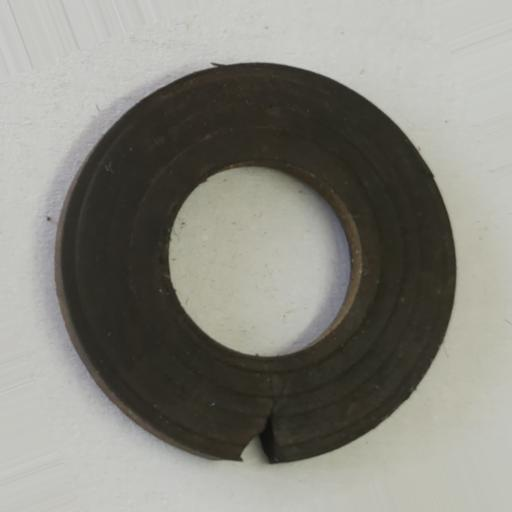defect: (238, 405, 279, 465)
